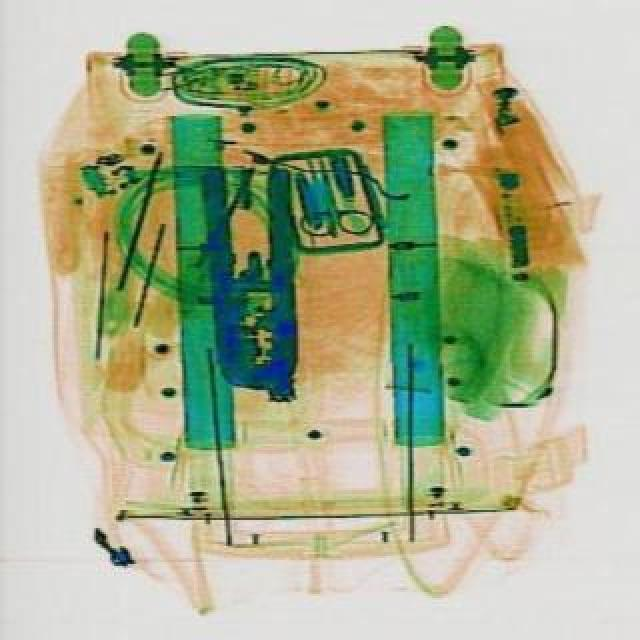pliers: (288, 154, 374, 246)
wrench: (200, 170, 300, 396)
